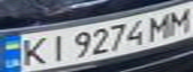2: (90, 25, 115, 56)
4: (124, 16, 151, 47)
7: (106, 20, 130, 52)
9: (69, 28, 93, 60)
I: (42, 30, 72, 63)
K: (12, 34, 51, 69)
M: (142, 11, 178, 42), (160, 6, 193, 36)
